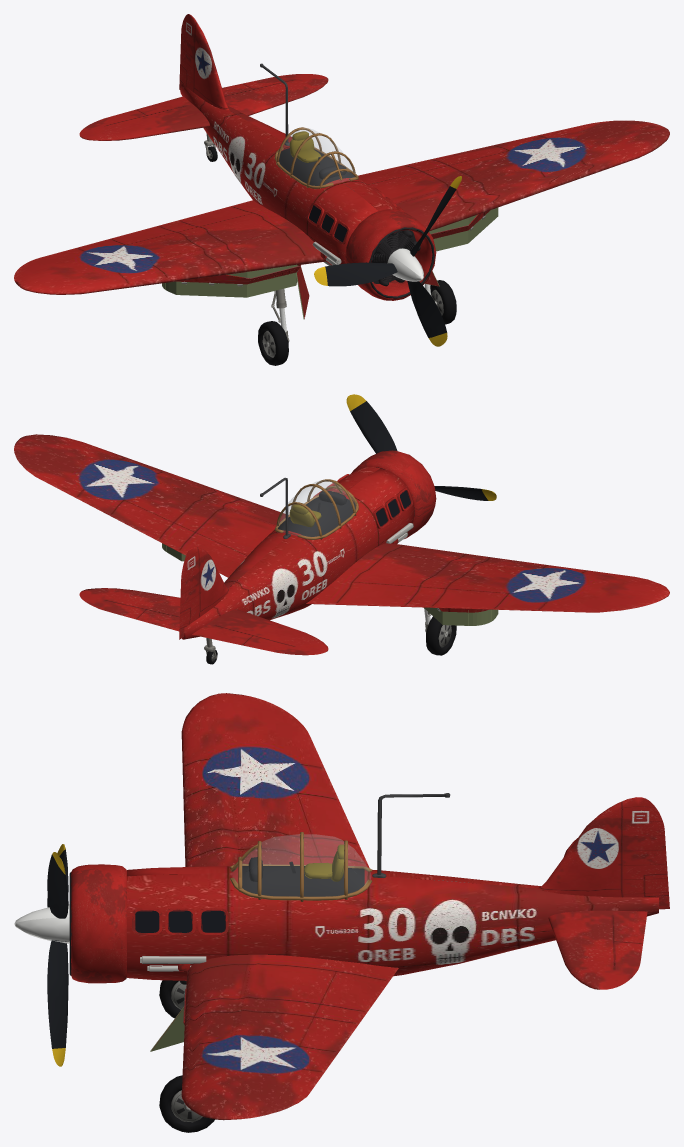
3 renders of one model, top to bottom at view 1: azimuth 30°, elevation 25°; view 2: azimuth 150°, elevation 25°; view 3: azimuth 270°, elevation 25°, orthographic. The views are drawn at different scales.
Visible parts, largest first — view 1: Antenna_Mast; view 2: Antenna_Mast; view 3: Antenna_Mast.
Boxes of the visible parts, x1,y1,x2,y2 form: Antenna_Mast: (14, 14, 669, 365); Antenna_Mast: (14, 394, 669, 664); Antenna_Mast: (14, 693, 669, 1132).
Bounding box in the file's own units: 1 × 0.3095 × 0.6512.
20 materials, 6 textured.
